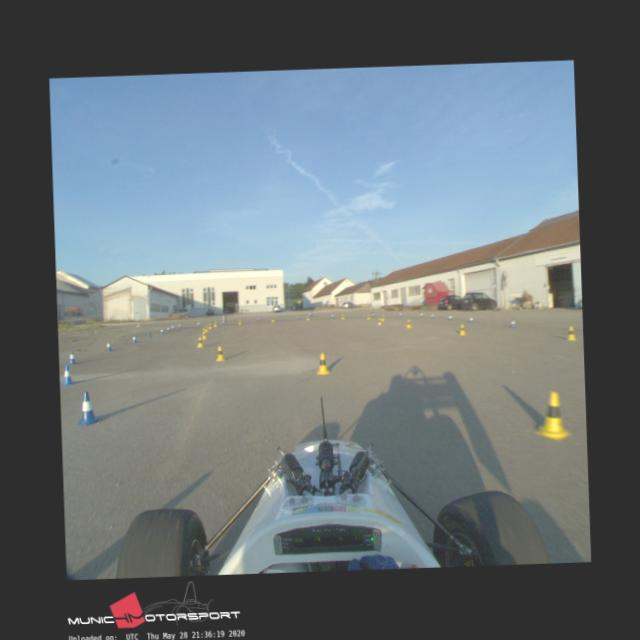blue_cone: (75, 390, 101, 426), (60, 365, 74, 385), (68, 350, 76, 364), (106, 341, 112, 352)
yellow_cone: (531, 391, 571, 441), (314, 352, 330, 374), (214, 346, 226, 361), (566, 326, 577, 340), (458, 323, 466, 335), (196, 336, 203, 348)
